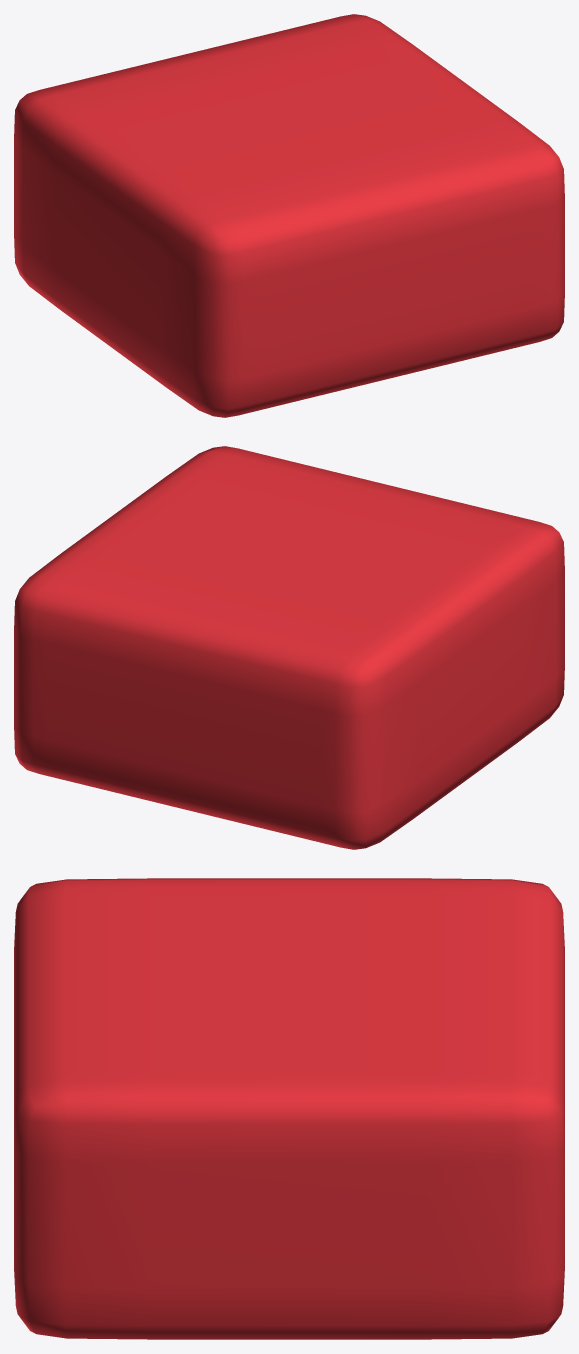
File: Tejido4.fbx
The picture shows the model from 3 angles, top to bottom: view 1: azimuth 30°, elevation 25°; view 2: azimuth 150°, elevation 25°; view 3: azimuth 270°, elevation 25°; orthographic projection. The views are drawn at different scales.
Parts seen in each view (by area): view 1: Tejido4; view 2: Tejido4; view 3: Tejido4.
Part boxes in pixels (bbox=[...]): Tejido4: bbox=[14, 14, 564, 417]; Tejido4: bbox=[14, 446, 564, 849]; Tejido4: bbox=[14, 878, 564, 1339].
Size of the model in its own units: 2 by 1 by 2.
